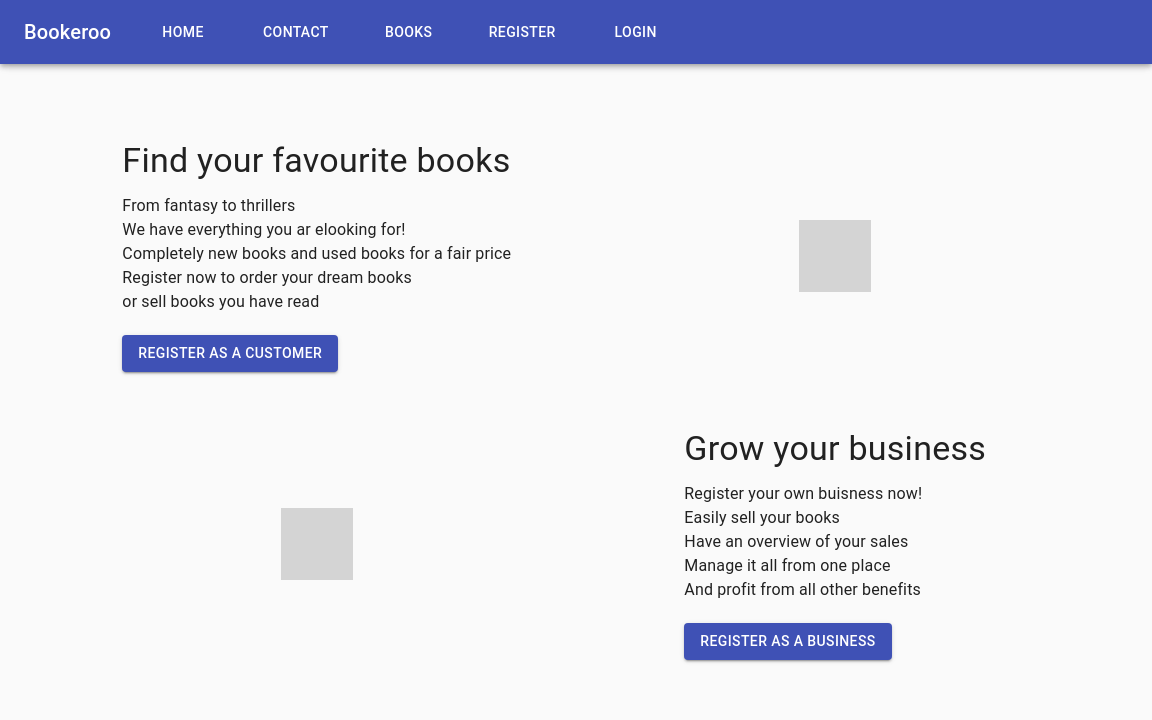
Scenario: Scenario 0: I want to access the login form
Click the button "Login".
click(636, 32)  # box [604, 14, 668, 50]
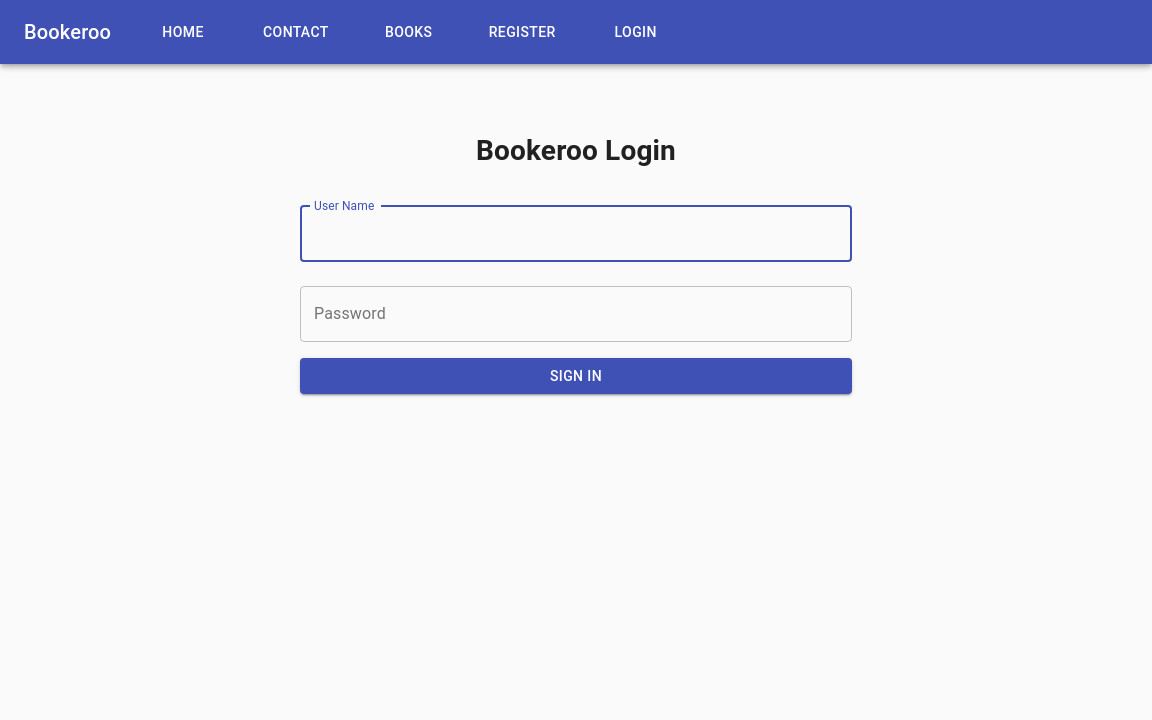
Now the field with id "username" is shown, box [300, 206, 852, 262]
